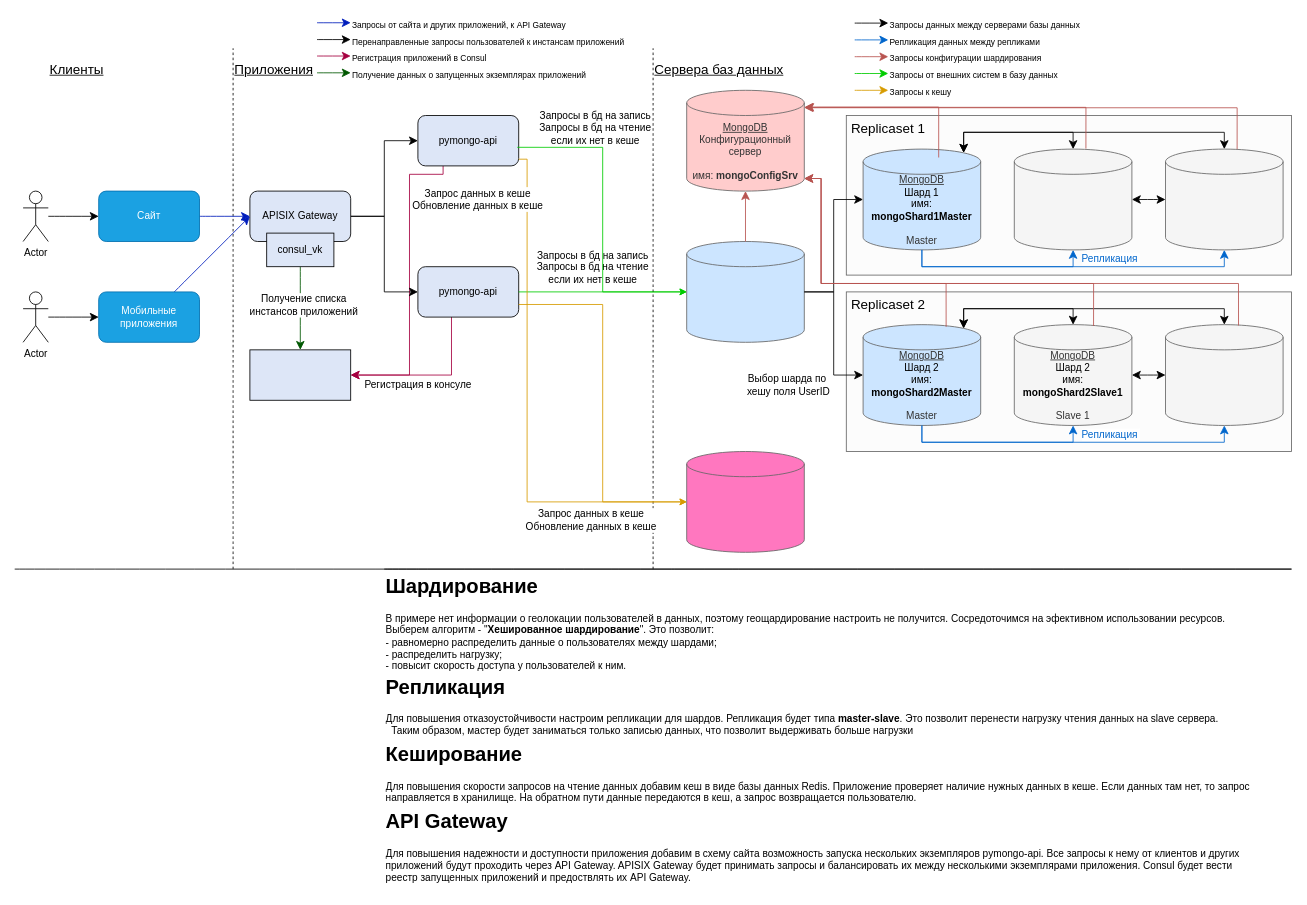
Image size: 1307x905. Some labels were removed from this diagram. Here are the shapes that lost their labels. From the top down, the box of each, then its label:
(1013, 148, 1132, 250): MongoDB Шард 1 имя: mongoShard1Slave1 Slave 1
(1165, 148, 1283, 250): MongoDB Шард 1 имя: mongoShard1Slave2 Slave 2
(686, 241, 804, 342): MongoDB Роутер имя: mongoR outer
(249, 349, 351, 400): Consul
(1165, 324, 1283, 425): MongoDB Шард 2 имя: mongoShard2Slave2 Slave 2
(686, 451, 804, 552): Redis Кеш имя: redisCache
